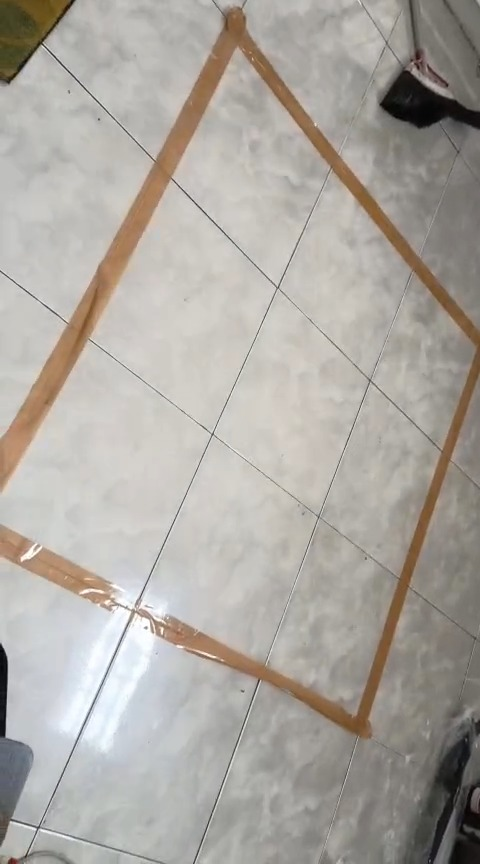floor marking: (1, 8, 479, 736)
